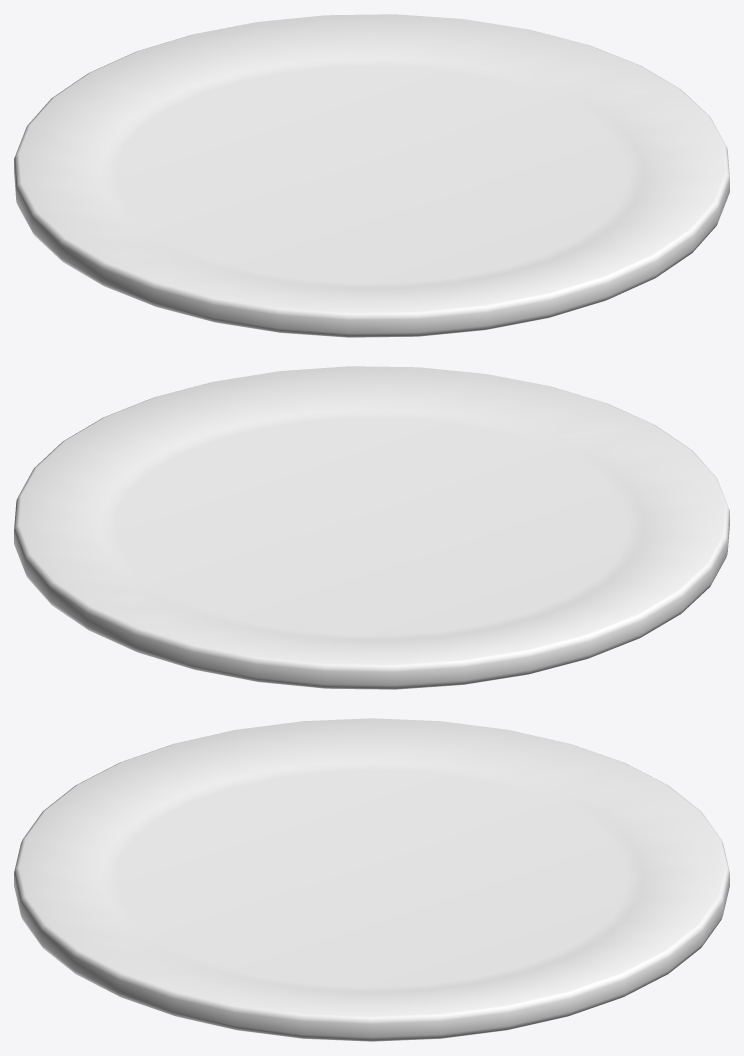
The model's file is Plate.fbx.
The picture shows the model from 3 angles, top to bottom: view 1: azimuth 30°, elevation 25°; view 2: azimuth 150°, elevation 25°; view 3: azimuth 270°, elevation 25°; orthographic projection.
Visible parts, largest first — view 1: R_Plate; view 2: R_Plate; view 3: R_Plate.
Boxes of the visible parts, x1,y1,x2,y2 form: R_Plate: [14, 14, 729, 337]; R_Plate: [14, 366, 729, 689]; R_Plate: [14, 718, 729, 1041].
Bounding box in the file's own units: 11.36 × 0.9117 × 11.36.
Materials: 1 (1 with a texture image).
